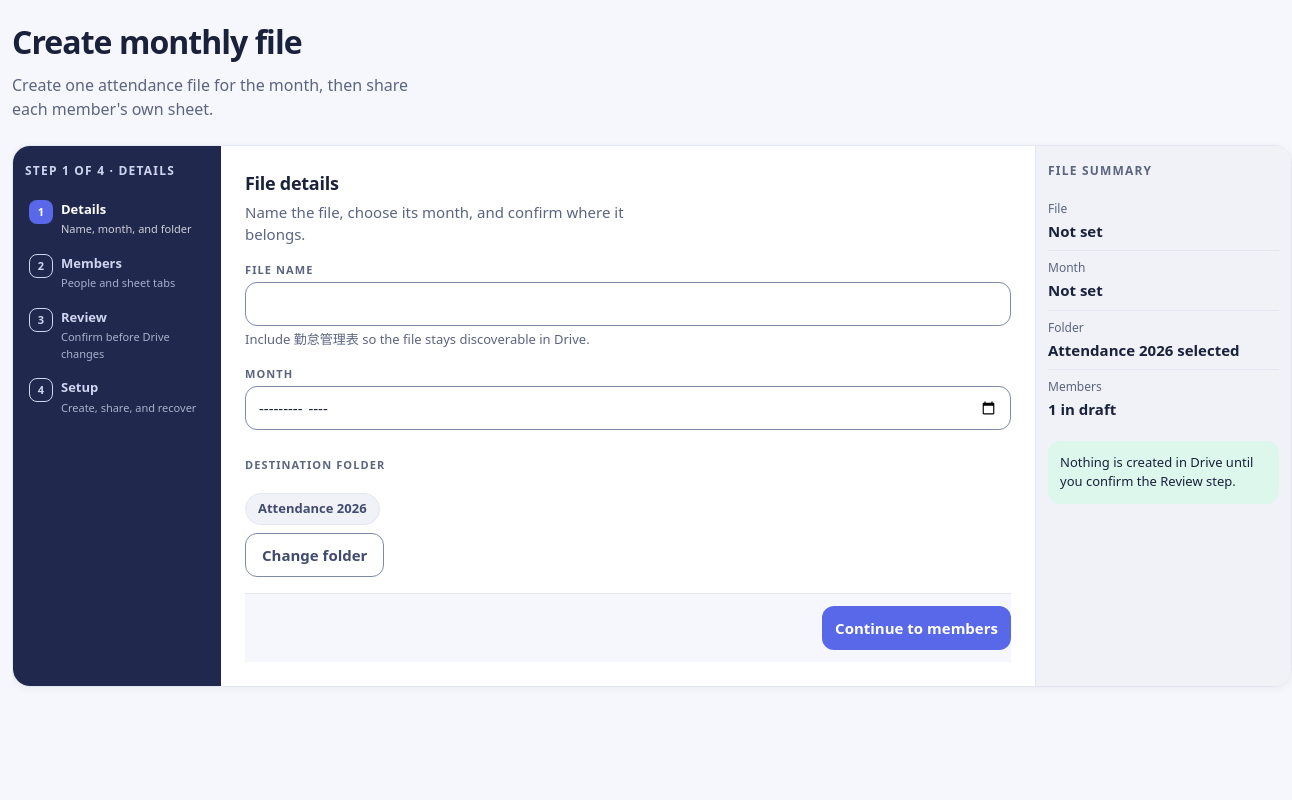
Test: NewFileWizard — stages › keeps every value when going back
Expected: the text "Attendance 2026" is shown, [245, 493, 380, 525]
Type "202607勤怠管理表" into the field labelled "File name" at (628, 304), box [245, 282, 1011, 326]
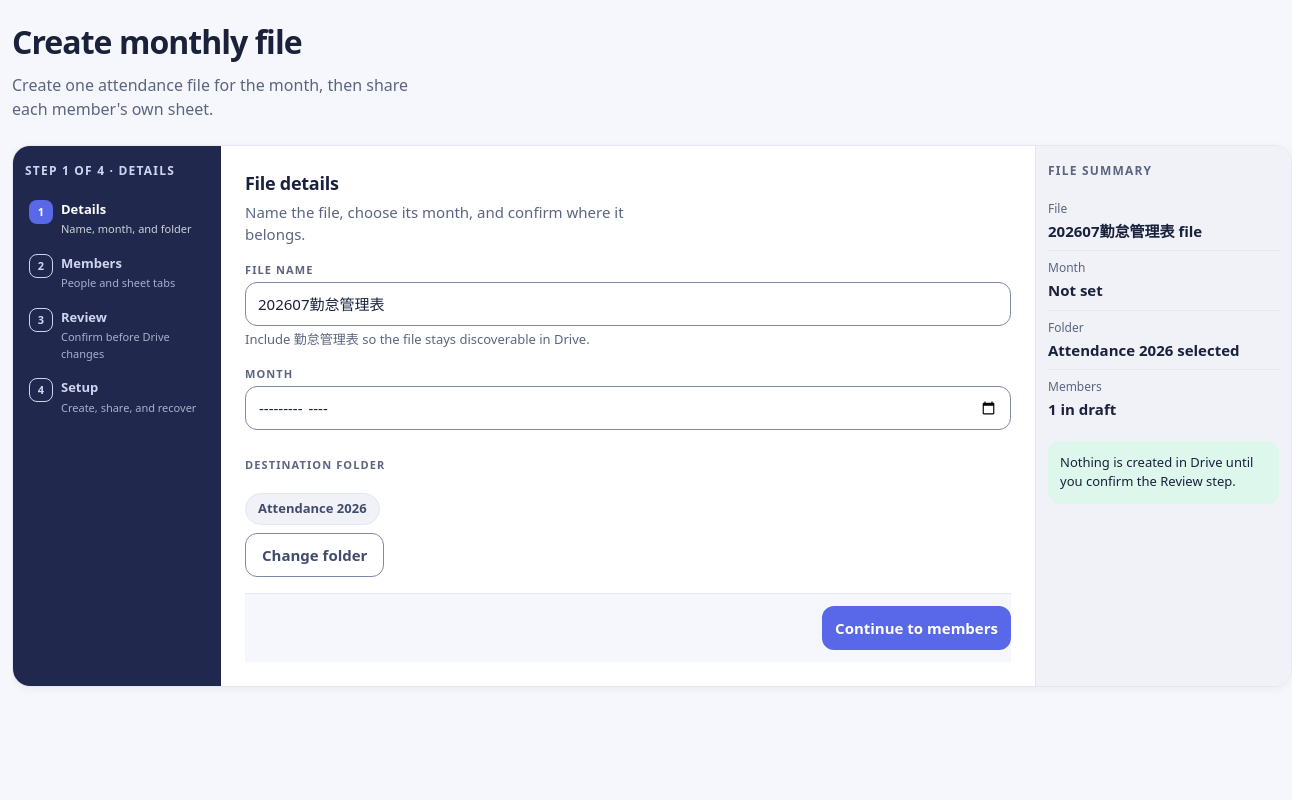
Type "2026-07" into the field labelled "Month" at (628, 408), box [245, 386, 1011, 430]
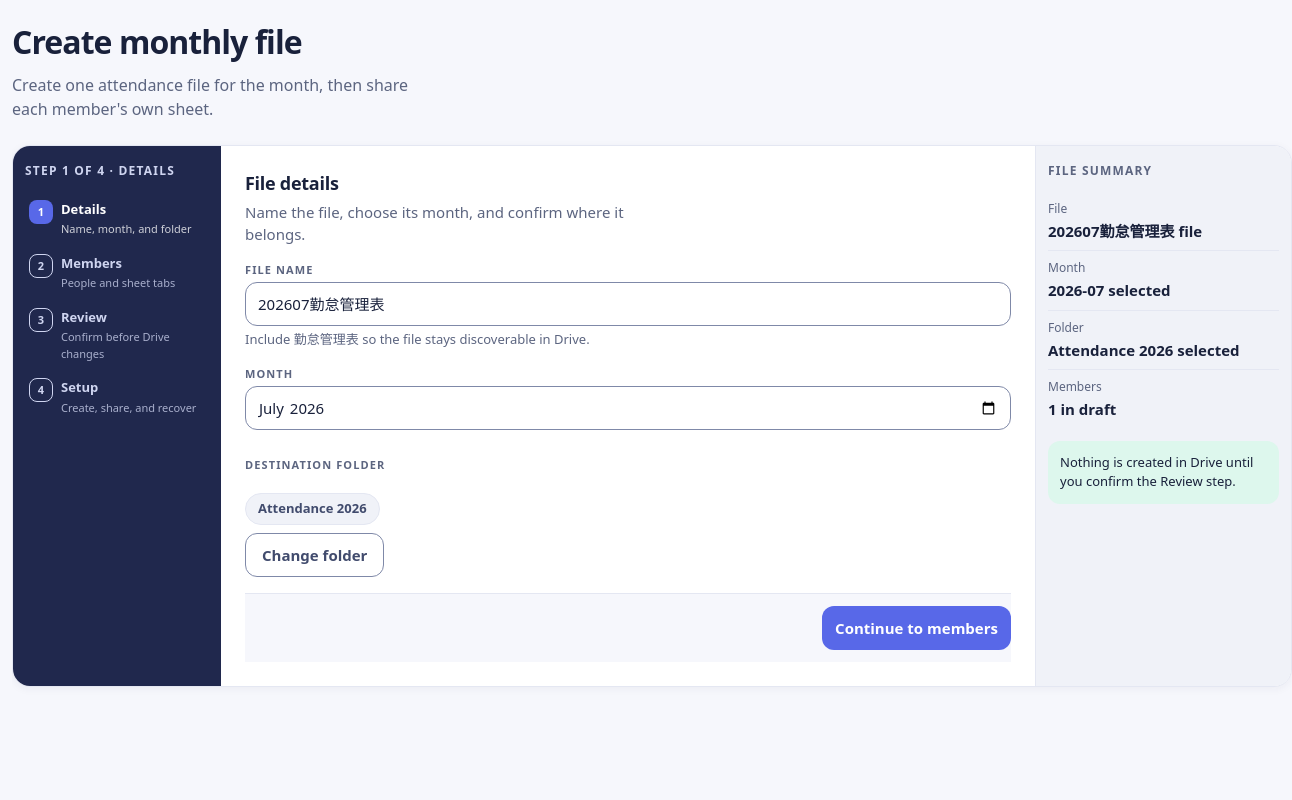
Click the button "Continue to members" at (917, 628), box [822, 606, 1011, 650]
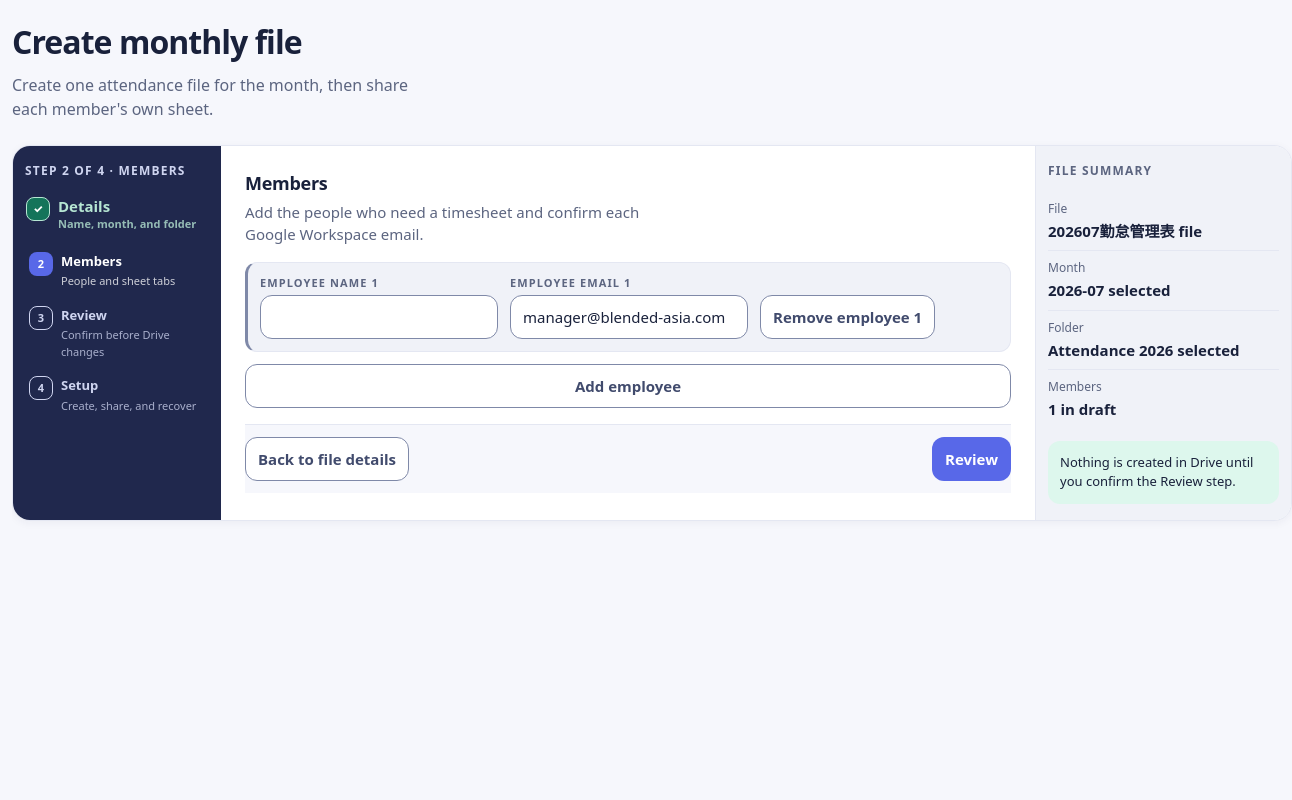
Type "Employee A" into the field labelled "Employee name 1" at (379, 317), box [260, 295, 498, 339]
Replace the text in the field labelled "Employee email 1" with "employee-a@blended-asia.com" at (629, 317), box [510, 295, 748, 339]
Click the button "Review" at (972, 459), box [932, 437, 1011, 481]
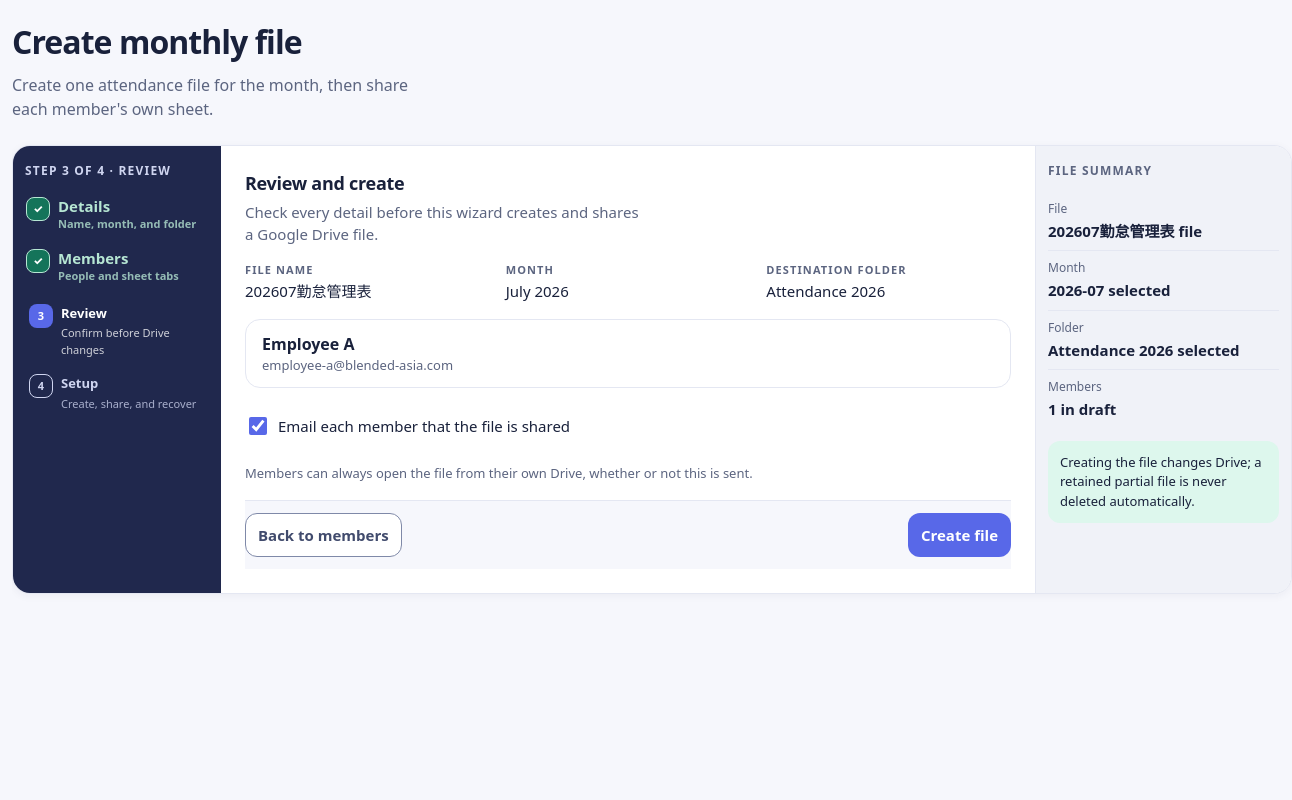
Now the heading "Review and create" is shown, box [245, 171, 404, 195]
Click the button "Back to members" at (323, 535), box [245, 513, 402, 557]
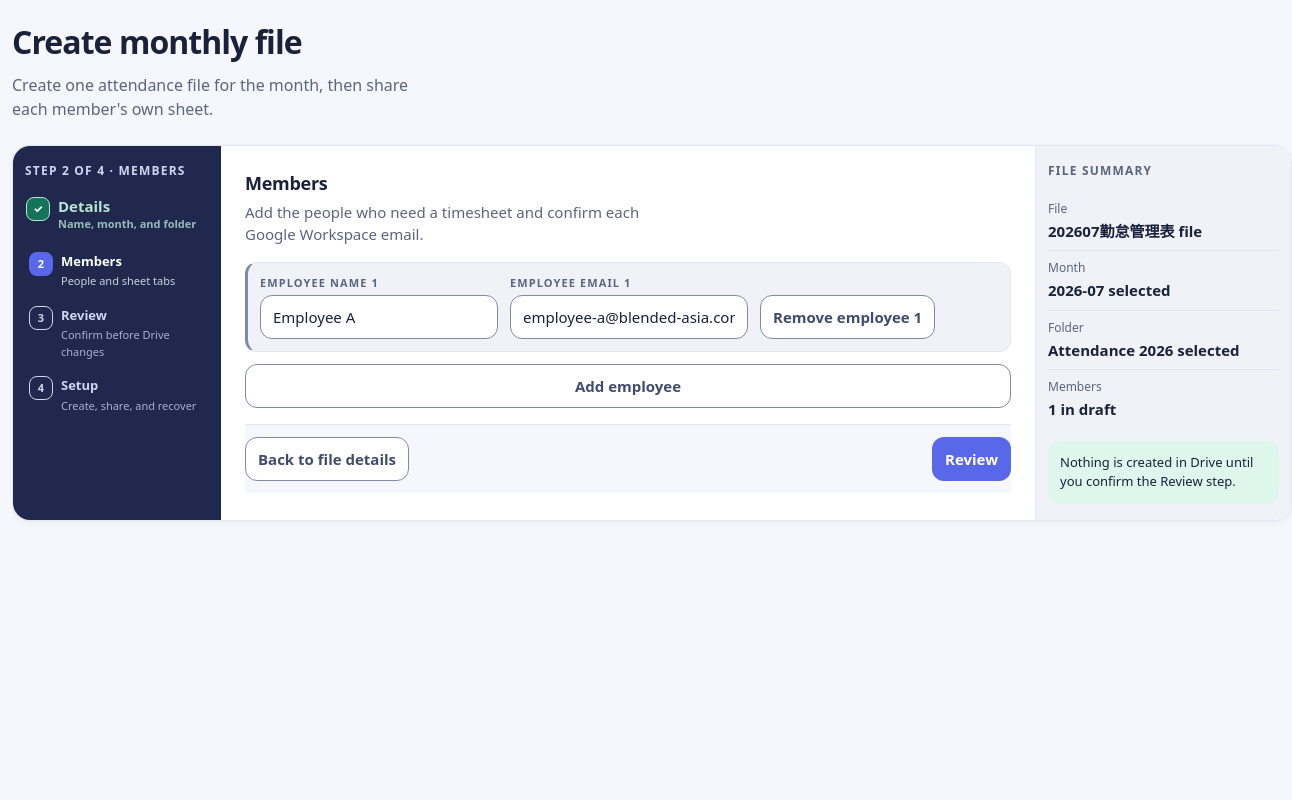
Now the field labelled "Employee name 1" holds "Employee A", box [260, 295, 498, 339]
Click the button "Back to file details" at (327, 459), box [245, 437, 409, 481]
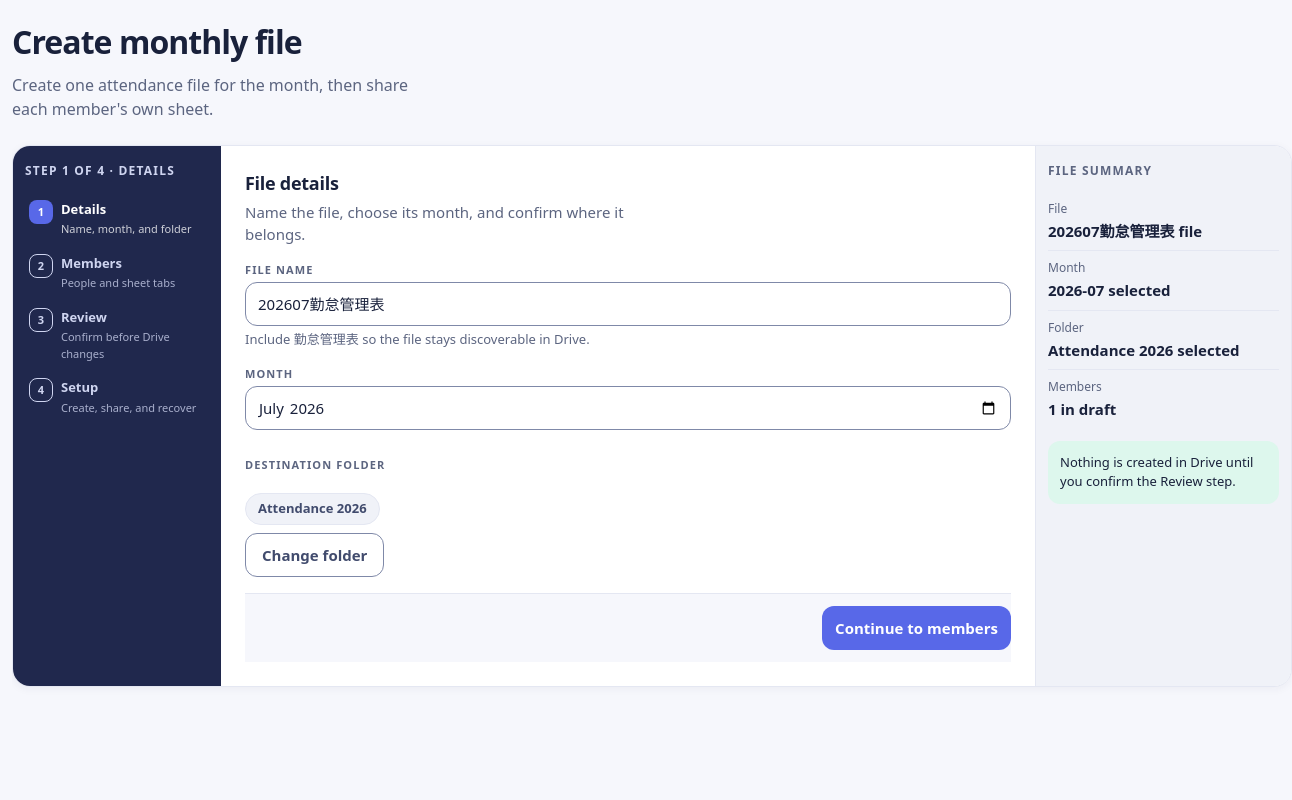
Now the field labelled "File name" holds "202607勤怠管理表", box [245, 282, 1011, 326]
Now the field labelled "Month" holds "2026-07", box [245, 386, 1011, 430]
